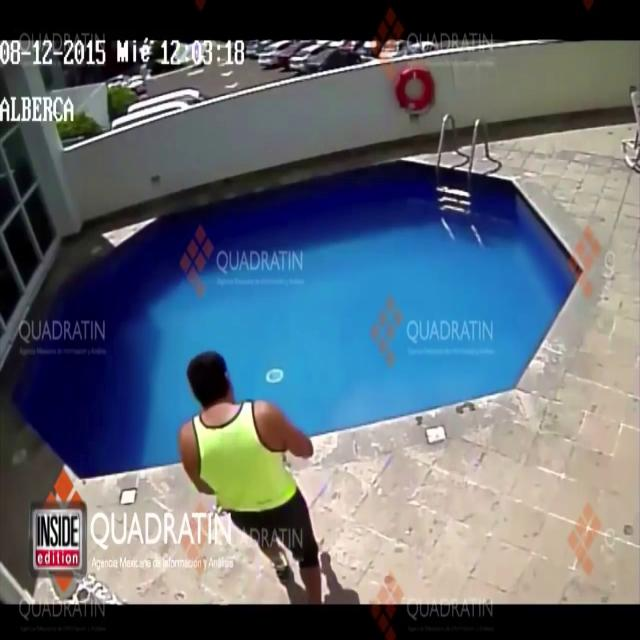adult: (179, 350, 329, 578)
